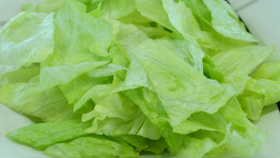chopped lettuce: (9, 1, 262, 155)
